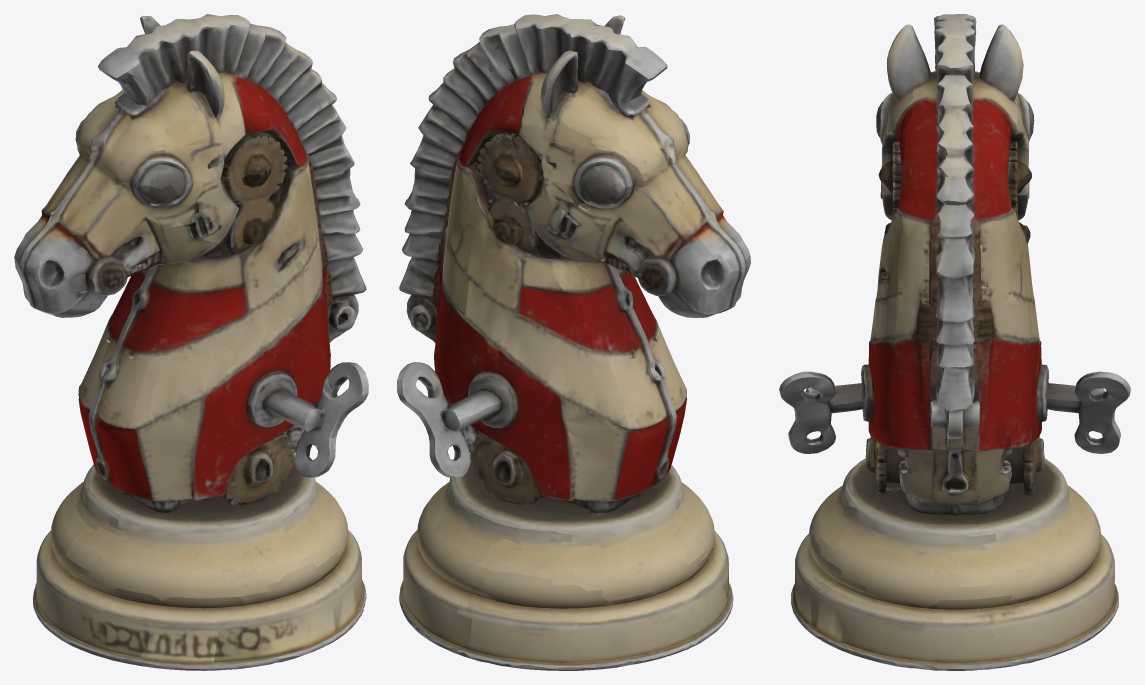
3 views of the same model, side by side, from view 1: azimuth 30°, elevation 25°; view 2: azimuth 150°, elevation 25°; view 3: azimuth 270°, elevation 25° (orthographic). The views are drawn at different scales.
Visible parts, largest first — view 1: world; view 2: world; view 3: world.
Boxes of the visible parts, x1=… form: world: x1=14, y1=14, x2=368, y2=670; world: x1=397, y1=14, x2=750, y2=670; world: x1=779, y1=14, x2=1130, y2=670.
Bounding box in the file's own units: 0.153 × 0.25 × 0.1399.
1 material, 1 textured.
